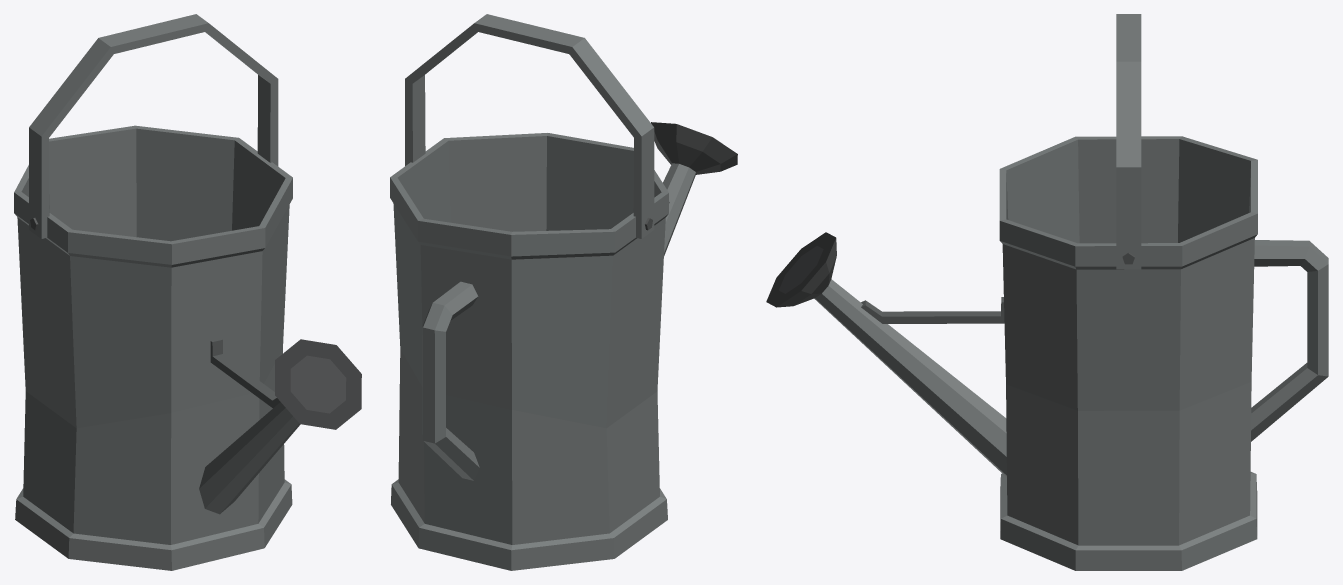
Rendered from SM_Props_Farm_Tool_WateringCan.fbx.
3 renders of one model, left to right at view 1: azimuth 30°, elevation 25°; view 2: azimuth 150°, elevation 25°; view 3: azimuth 270°, elevation 25°, orthographic.
Parts seen in each view (by area): view 1: SM_Props_Farm_Tool_WateringCan; view 2: SM_Props_Farm_Tool_WateringCan; view 3: SM_Props_Farm_Tool_WateringCan.
Part boxes in pixels (<box>): SM_Props_Farm_Tool_WateringCan: <box>14,14,361,570</box>; SM_Props_Farm_Tool_WateringCan: <box>390,14,737,570</box>; SM_Props_Farm_Tool_WateringCan: <box>766,14,1328,570</box>.
Size of the model in its own units: 44.3 by 84.71 by 90.2.
